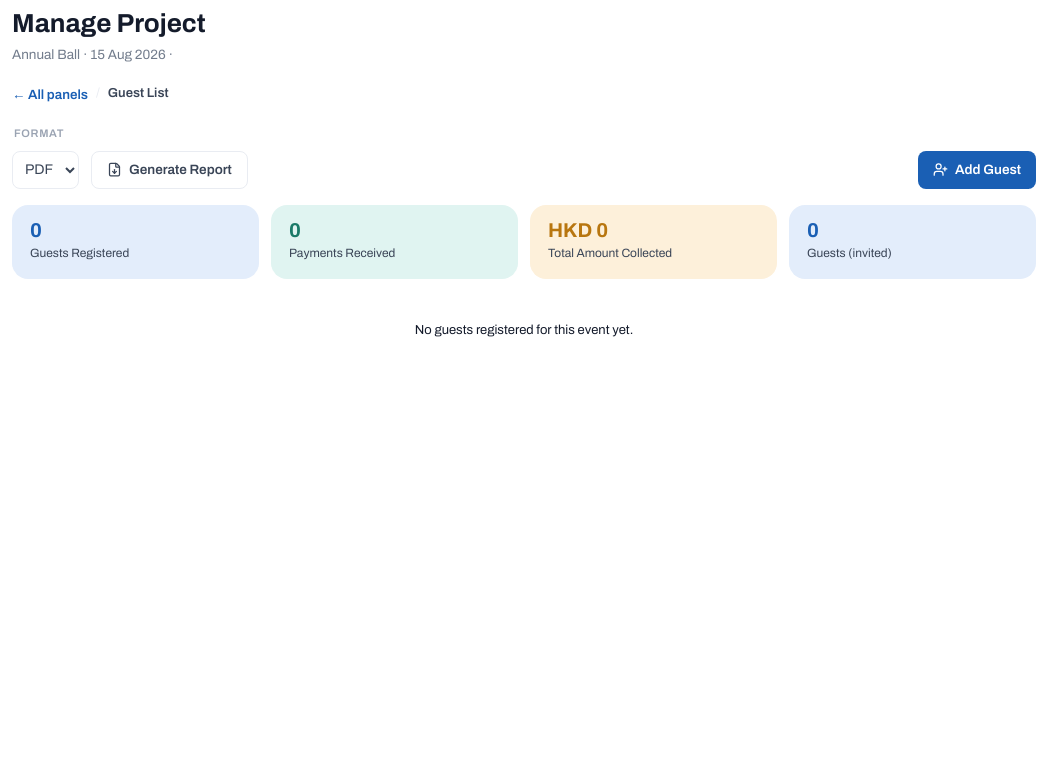
Test: EventManageProject › clicking the breadcrumb clears the panel and keeps the same event selected
What coordinates should you click on to do the following:
click the button "← All panels"
I would click on:
 (50, 94)
Its box is [12,86,88,102].
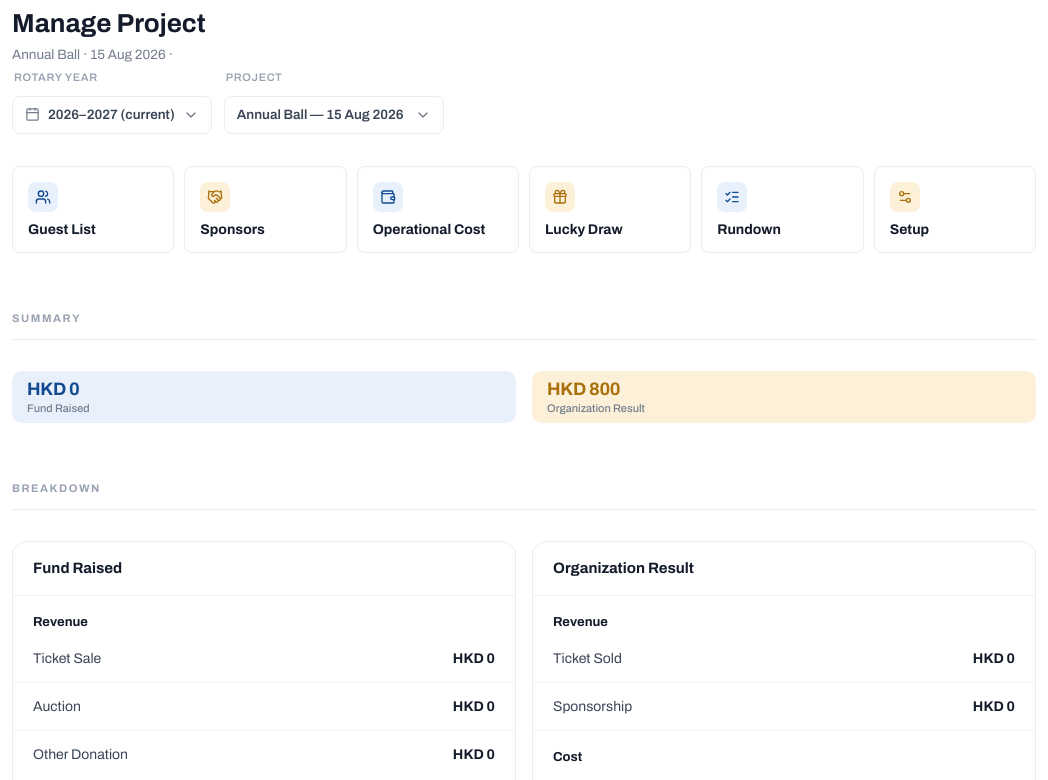
Expected: the button "Guest List" is shown, [12,166,174,253]
Now the button with aria-label "Project" reads "Annual Ball — 15 Aug 2026", box [224,96,444,134]
